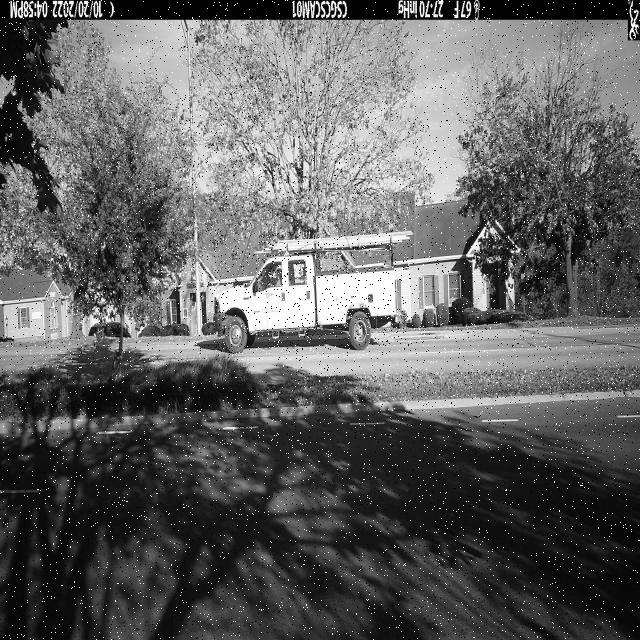Pickup- Utility: (214, 231, 412, 354)
